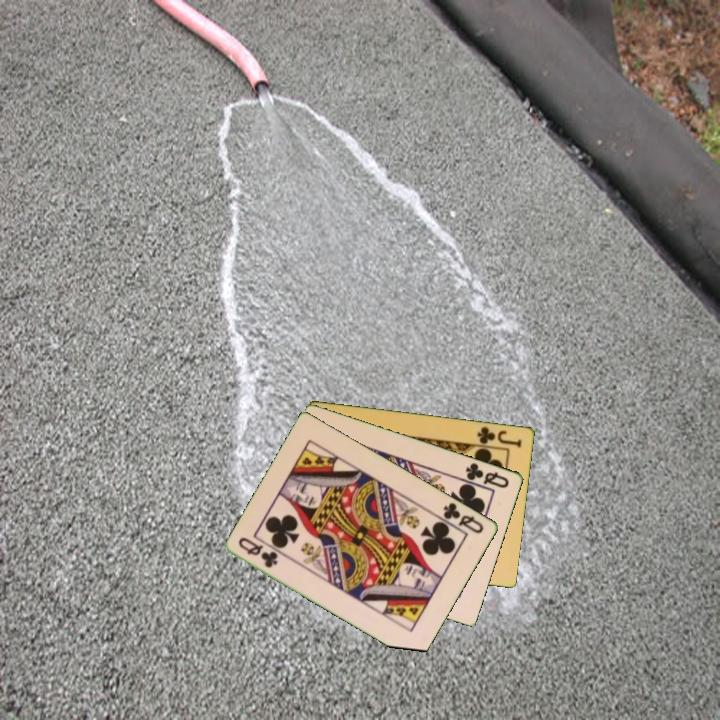Jc: (474, 423, 525, 450)
Qc: (434, 499, 487, 537), (235, 533, 281, 571), (462, 459, 512, 491)
